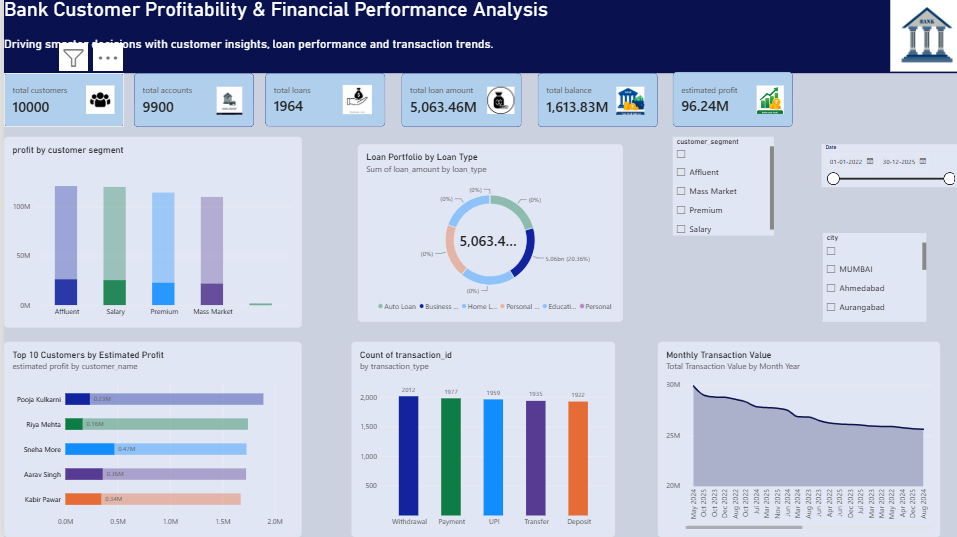

The page's visual inventory and layout, read from the dashboard file:
{"tool":"powerbi","page":{"name":"dashboard","canvas":[1920,1080],"ordinal":4},"visuals":[{"type":"textbox","title":"   Bank Customer Profitability & Financial Performance Analysis","box":[0,0,1920,150],"z":0},{"type":"shape","title":"Driving smarter decisions with customer insights, loan performance and transaction trends.","box":[0,76.7,1920,33.3],"z":2000},{"type":"cardVisual","fields":{"Data":["Measures (3).total customers"]},"box":[0,150,240,108.6],"z":3000},{"type":"cardVisual","fields":{"Data":["Measures (3).total accounts"]},"box":[260,150,240,108.6],"z":4000},{"type":"cardVisual","fields":{"Data":["Measures (3).total loans"]},"box":[522.9,150,240,107.1],"z":5000},{"type":"cardVisual","fields":{"Data":["Measures (3).total loan amount"]},"box":[795.7,150,240,108.6],"z":6000},{"type":"cardVisual","fields":{"Data":["Measures (3).total balance"]},"box":[1067.1,150,240,108.6],"z":7000},{"type":"cardVisual","fields":{"Data":["Measures (3).estimated profit"]},"box":[1337.1,148.6,240,110],"z":8000},{"type":"image","box":[162.9,175.7,60,57.1],"z":9000},{"type":"image","box":[411.4,177.1,77.1,55.7],"z":10000},{"type":"image","box":[678.6,168.6,58.6,71.4],"z":11000},{"type":"image","box":[960,178.6,67.1,54.3],"z":12000},{"type":"image","box":[1197.1,177.1,110,55.7],"z":13000},{"type":"image","box":[1491.4,175.7,80,57.1],"z":14000},{"type":"clusteredColumnChart","title":" profit by customer segment","fields":{"Category":["bank_profit customers_clean.customer_segment"],"Y":["Measures (3).estimated profit"]},"box":[0,278.6,595.7,381.4],"z":15000},{"type":"donutChart","title":"Loan Portfolio by Loan Type","fields":{"Category":["bank_profit loans_clean.loan_type"],"Y":["Sum(bank_profit loans_clean.loan_amount)"]},"box":[707.5,292.5,530,355],"z":16000},{"type":"clusteredBarChart","title":"Top 10 Customers by Estimated Profit","fields":{"Category":["bank_profit customers_clean.customer_name"],"Y":["Measures (3).estimated profit"]},"box":[0,687.5,595,392.5],"z":17000},{"type":"clusteredColumnChart","fields":{"Category":["bank_profit transactions_clean.transaction_type"],"Y":["CountNonNull(bank_profit transactions_clean.transaction_id)"]},"box":[695,687.5,527.5,392.5],"z":18000},{"type":"lineChart","title":"Monthly Transaction Value","fields":{"Category":["DateTable.Month Year"],"Y":["Measures (3).Total Transaction Value"]},"box":[1307.5,687.5,565,392.5],"z":19000},{"type":"slicer","fields":{"Values":["DateTable.Date"]},"box":[1635,292.5,272.5,85],"z":19001},{"type":"image","box":[1772.5,0,147.5,147.5],"z":19002},{"type":"slicer","fields":{"Values":["bank_profit customers_clean.customer_segment"]},"box":[1337.5,277.5,202.5,197.5],"z":19003},{"type":"slicer","fields":{"Values":["bank_profit customers_clean.city"]},"box":[1637.5,470,207.5,177.5],"z":19004}]}

Visuals, with their boxes in screenshot pixels (x1, y1, x2, y2), scaled from the page's 1920x1080 canvas onto the 957x537 screenshot:
"   Bank Customer Profitability & Financial Performance Analysis" textbox: {"left": 0, "top": 0, "right": 956, "bottom": 75}
"Driving smarter decisions with customer insights, loan performance and transaction trends." shape: {"left": 0, "top": 38, "right": 956, "bottom": 55}
cardVisual - Measures (3).total customers: {"left": 0, "top": 75, "right": 120, "bottom": 129}
cardVisual - Measures (3).total accounts: {"left": 130, "top": 75, "right": 249, "bottom": 129}
cardVisual - Measures (3).total loans: {"left": 261, "top": 75, "right": 380, "bottom": 128}
cardVisual - Measures (3).total loan amount: {"left": 397, "top": 75, "right": 516, "bottom": 129}
cardVisual - Measures (3).total balance: {"left": 532, "top": 75, "right": 652, "bottom": 129}
cardVisual - Measures (3).estimated profit: {"left": 666, "top": 74, "right": 786, "bottom": 129}
image: {"left": 81, "top": 87, "right": 111, "bottom": 116}
image: {"left": 205, "top": 88, "right": 243, "bottom": 116}
image: {"left": 338, "top": 84, "right": 367, "bottom": 119}
image: {"left": 478, "top": 89, "right": 512, "bottom": 116}
image: {"left": 597, "top": 88, "right": 652, "bottom": 116}
image: {"left": 743, "top": 87, "right": 783, "bottom": 116}
" profit by customer segment" clusteredColumnChart: {"left": 0, "top": 139, "right": 297, "bottom": 328}
"Loan Portfolio by Loan Type" donutChart: {"left": 353, "top": 145, "right": 617, "bottom": 322}
"Top 10 Customers by Estimated Profit" clusteredBarChart: {"left": 0, "top": 342, "right": 297, "bottom": 536}
clusteredColumnChart - bank_profit transactions_clean.transaction_type x CountNonNull(bank_profit transactions_clean.transaction_id): {"left": 346, "top": 342, "right": 609, "bottom": 536}
"Monthly Transaction Value" lineChart: {"left": 652, "top": 342, "right": 933, "bottom": 536}
slicer - DateTable.Date: {"left": 815, "top": 145, "right": 951, "bottom": 188}
image: {"left": 883, "top": 0, "right": 956, "bottom": 73}
slicer - bank_profit customers_clean.customer_segment: {"left": 667, "top": 138, "right": 768, "bottom": 236}
slicer - bank_profit customers_clean.city: {"left": 816, "top": 234, "right": 920, "bottom": 322}
